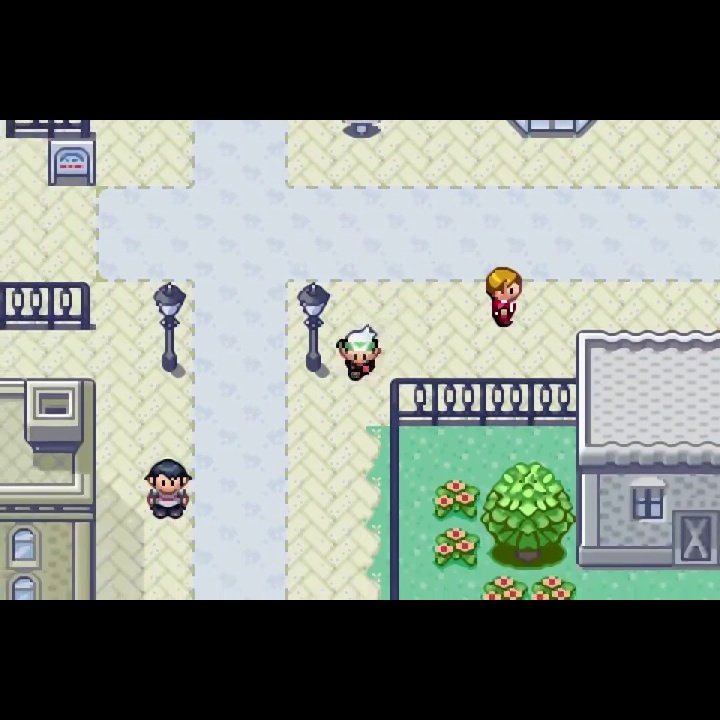house: (572, 327, 720, 571), (1, 375, 98, 600)
npc: (142, 455, 195, 524), (333, 325, 386, 386), (480, 263, 526, 330)
wall: (481, 460, 574, 569)
